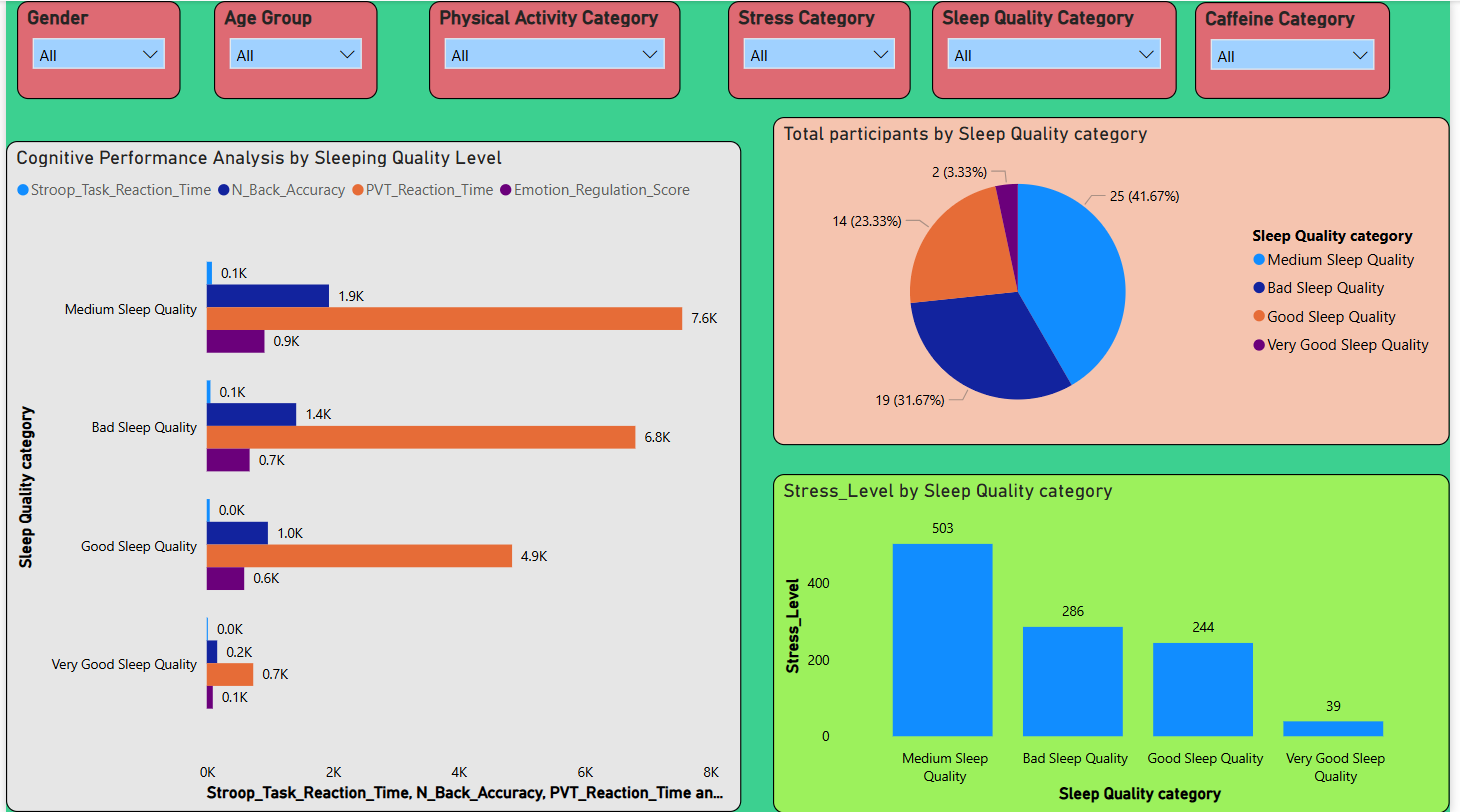

The dashboard page shown, as its layout file describes it:
{"tool":"powerbi","page":{"name":"Analysis by Sleep Quality Level","canvas":[1280,720],"ordinal":2},"visuals":[{"type":"clusteredBarChart","title":"Cognitive Performance Analysis by Sleeping Quality Level","fields":{"Category":["sleep_deprivation_dataset_detai.Sleep Quality category"],"Y":["Sum(sleep_deprivation_dataset_detai.Stroop_Task_Reaction_Time)","Sum(sleep_deprivation_dataset_detai.N_Back_Accuracy)","Sum(sleep_deprivation_dataset_detai.PVT_Reaction_Time)","Sum(sleep_deprivation_dataset_detai.Emotion_Regulation_Score)"]},"box":[0,124.5,651.7,595.3],"z":0},{"type":"pieChart","fields":{"Category":["sleep_deprivation_dataset_detai.Sleep Quality category"],"Y":["CountNonNull(sleep_deprivation_dataset_detai.Participant_ID)"]},"box":[679.9,103.1,600.1,290.8],"z":1000},{"type":"columnChart","fields":{"Category":["sleep_deprivation_dataset_detai.Sleep Quality category"],"Y":["Sum(sleep_deprivation_dataset_detai.Stress_Level)"]},"box":[679.9,419.2,600.1,300.5],"z":2000},{"type":"slicer","title":"Gender","fields":{"Values":["sleep_deprivation_dataset_detai.Gender"]},"box":[9.7,0,144.9,86.6],"z":2001},{"type":"slicer","title":"Age Group","fields":{"Values":["sleep_deprivation_dataset_detai.Age Group"]},"box":[184.8,0,144.9,86.6],"z":2002},{"type":"slicer","title":"Physical Activity Category","fields":{"Values":["sleep_deprivation_dataset_detai.Physical Activity Category"]},"box":[375.4,0,222.7,86.6],"z":2003},{"type":"slicer","title":"Stress  Category","fields":{"Values":["sleep_deprivation_dataset_detai.Stress Category"]},"box":[640,0,162.4,86.6],"z":2004},{"type":"slicer","title":"Caffeine Category","fields":{"Values":["sleep_deprivation_dataset_detai.coffee intake category"]},"box":[1054.3,1,173.1,85.6],"z":2005},{"type":"slicer","title":"Sleep Quality Category","fields":{"Values":["sleep_deprivation_dataset_detai.Sleep Quality category"]},"box":[820.9,0,216.9,86.6],"z":2006}]}

Visuals, with their boxes in screenshot pixels (x1, y1, x2, y2), scaled from the page's 1280x720 canvas onto the 1460x812 screenshot:
"Cognitive Performance Analysis by Sleeping Quality Level" clusteredBarChart: left=0, top=140, right=743, bottom=811
pieChart - sleep_deprivation_dataset_detai.Sleep Quality category x CountNonNull(sleep_deprivation_dataset_detai.Participant_ID): left=776, top=116, right=1459, bottom=444
columnChart - sleep_deprivation_dataset_detai.Sleep Quality category x Sum(sleep_deprivation_dataset_detai.Stress_Level): left=776, top=473, right=1459, bottom=811
"Gender" slicer: left=11, top=0, right=176, bottom=98
"Age Group" slicer: left=211, top=0, right=376, bottom=98
"Physical Activity Category" slicer: left=428, top=0, right=682, bottom=98
"Stress  Category" slicer: left=730, top=0, right=915, bottom=98
"Caffeine Category" slicer: left=1203, top=1, right=1400, bottom=98
"Sleep Quality Category" slicer: left=936, top=0, right=1184, bottom=98
